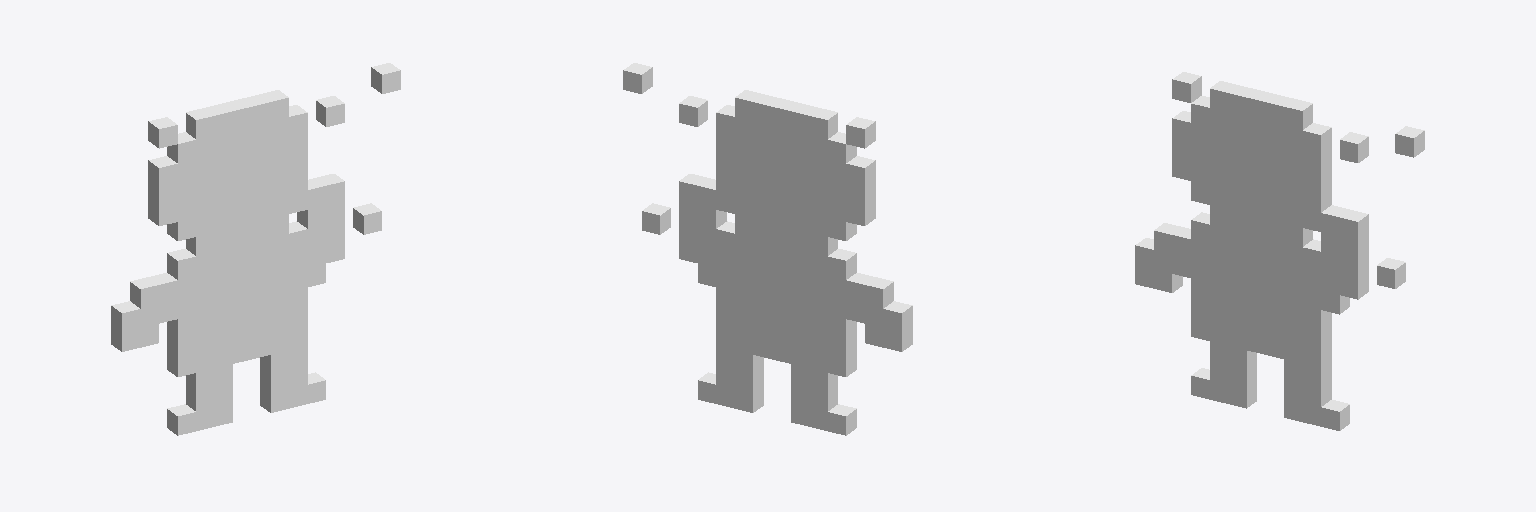
The model's file is Win2.obj.
3 renders of one model, left to right at view 1: azimuth 30°, elevation 25°; view 2: azimuth 150°, elevation 25°; view 3: azimuth 330°, elevation 25°, orthographic.
Parts seen in each view (by area): view 1: object 1; view 2: object 1; view 3: object 1.
Boxes of the visible parts, <box> form: object 1: <box>111,63,400,435</box>; object 1: <box>623,63,912,435</box>; object 1: <box>1135,72,1424,430</box>.
Size of the model in its own units: 1.5 by 1.6 by 0.1.